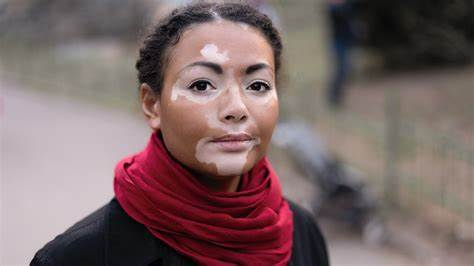Vitiligo: (173, 33, 280, 182)
